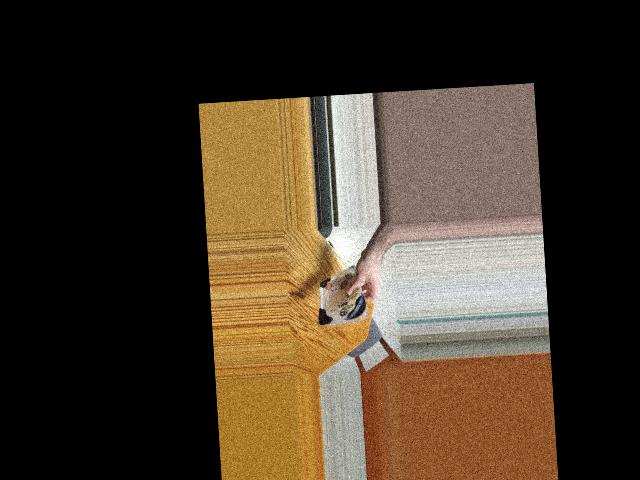cheese: (319, 275, 370, 330)
